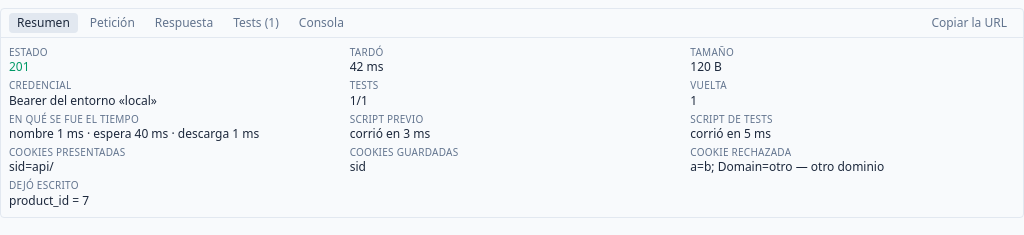
una petición de la corrida, abierta › la petición enseña la URL que salió, y dice cuál estaba escrita
Click the button "Petición" at point(112, 23), box [82,13,143,33]
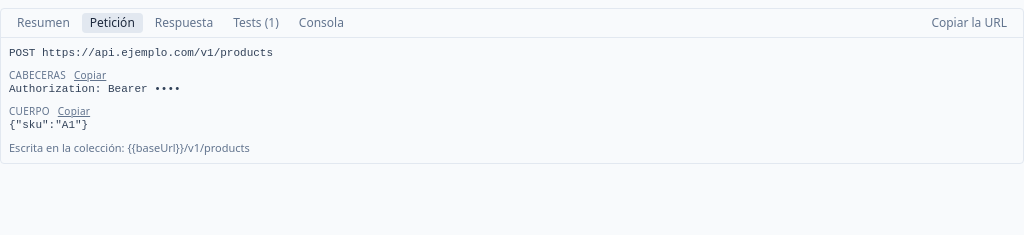
Expected: the text "POST https://api.ejemplo.com/v1/products" is shown, [9,47,273,59]
Expected: the text "Authorization: Bearer ••••" is shown, [9,83,181,95]
Expected: the text "{\"sku\":\"A1\"}" is shown, [9,119,88,131]
